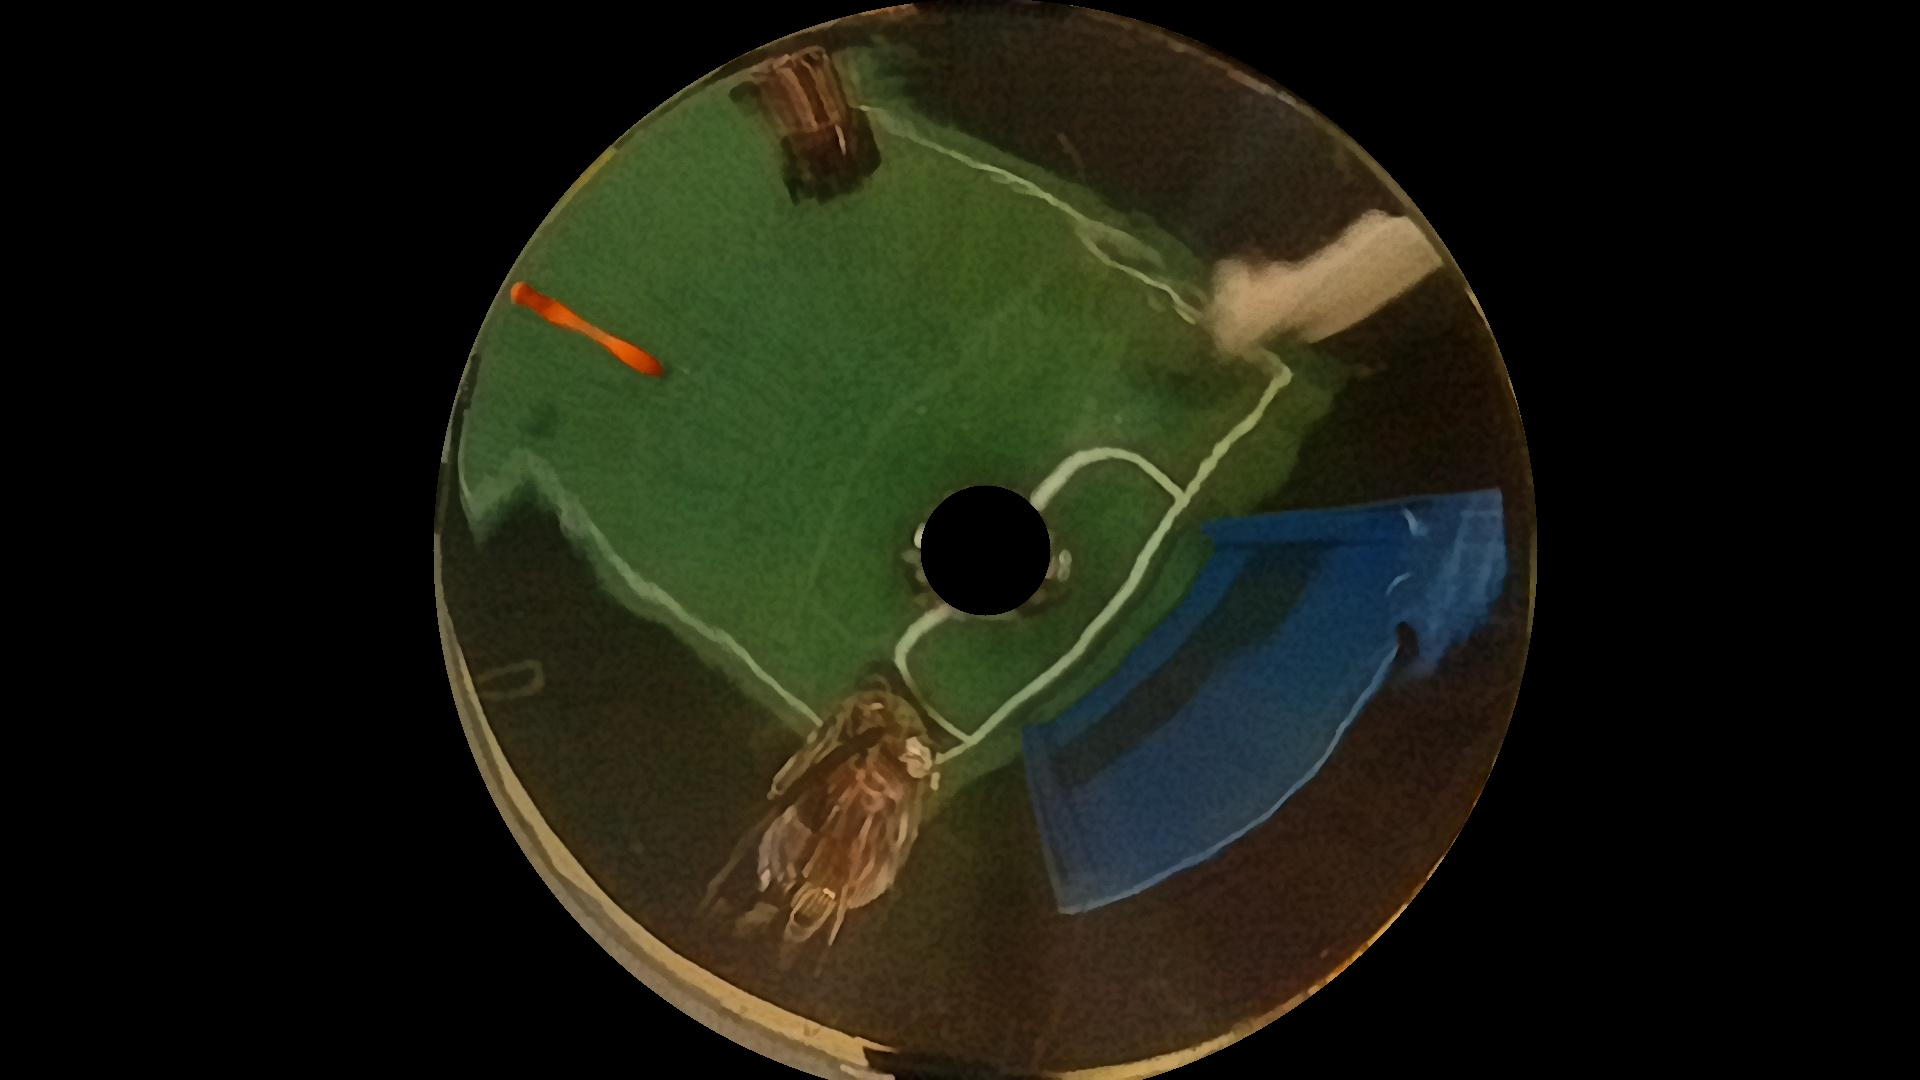ball: (589, 330, 674, 390)
blue-goal: (1034, 488, 1511, 907)
robots: (702, 665, 973, 909), (757, 49, 895, 200)
